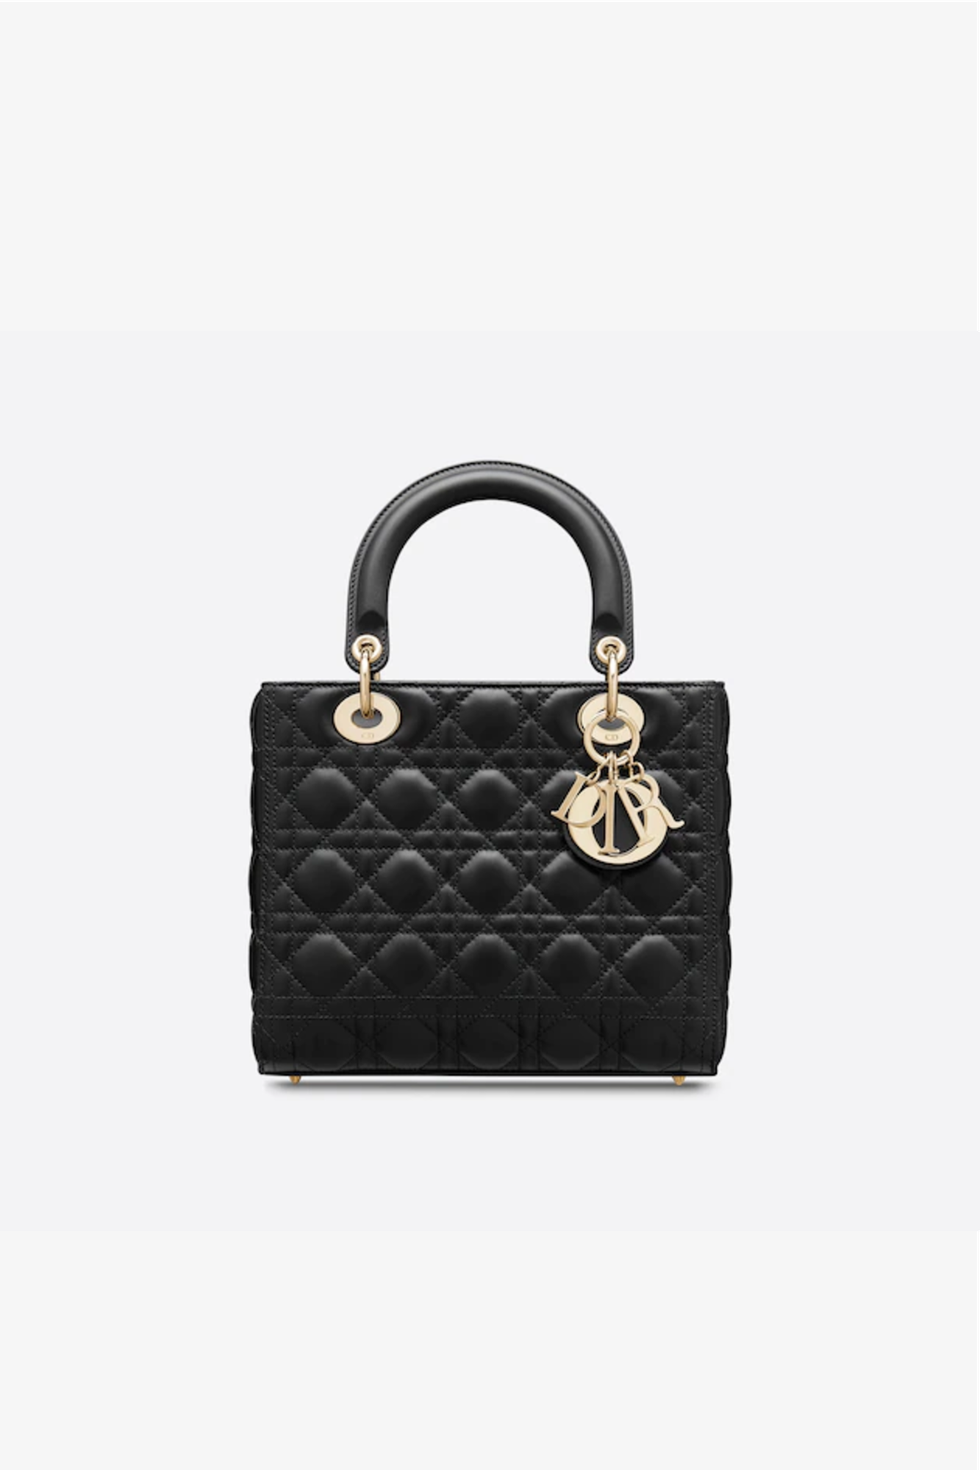cartera: (237, 451, 745, 1093)
cuero: (245, 672, 738, 1087)
